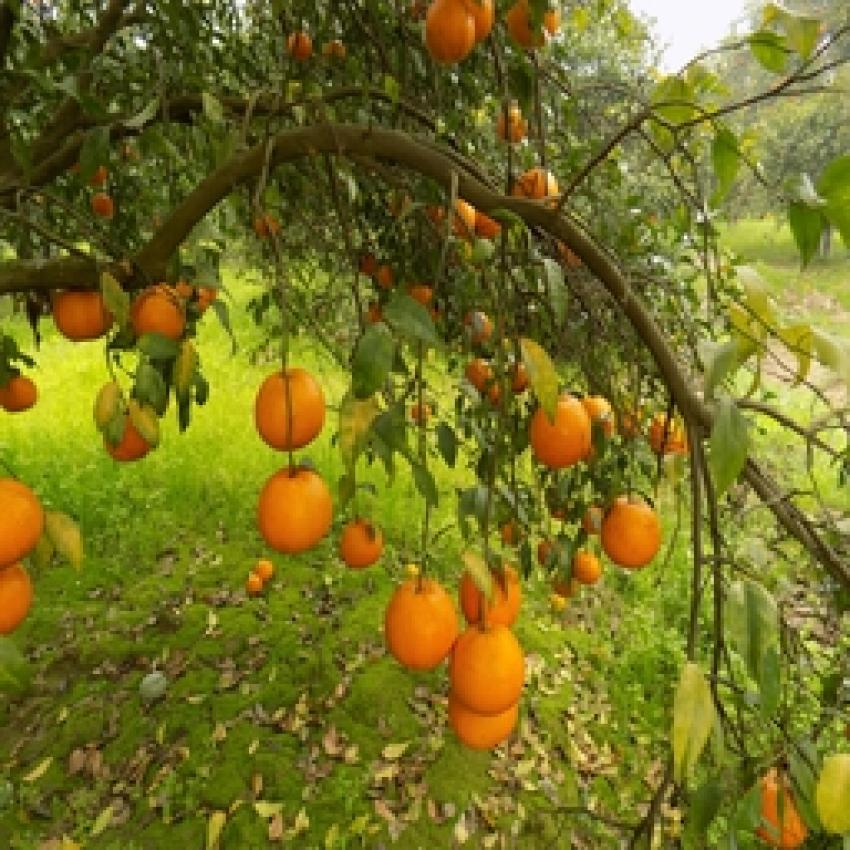Buen estado: (383, 569, 469, 675), (256, 465, 338, 563), (455, 544, 528, 644), (599, 495, 674, 587), (253, 364, 328, 455), (452, 625, 531, 710), (526, 383, 592, 478), (0, 466, 56, 563), (452, 694, 518, 757), (0, 560, 40, 648), (335, 518, 388, 574)
